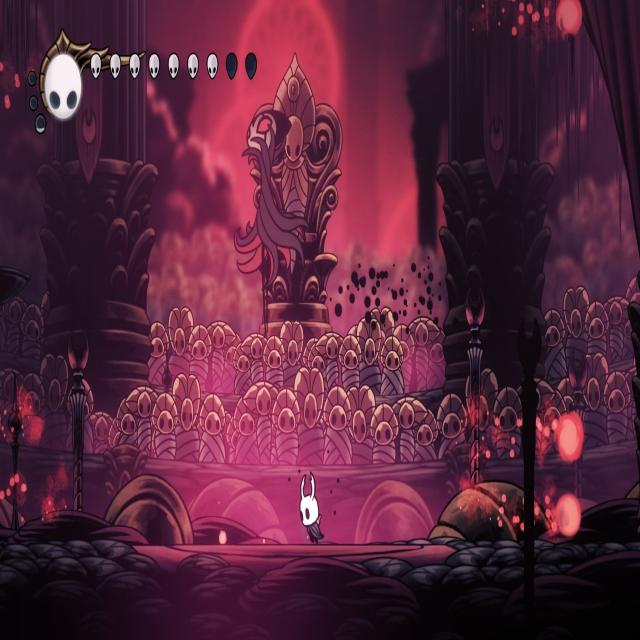Player: (299, 469, 327, 547)
Tiny Fireballs: (557, 413, 583, 463), (556, 494, 582, 537), (556, 0, 582, 38)
